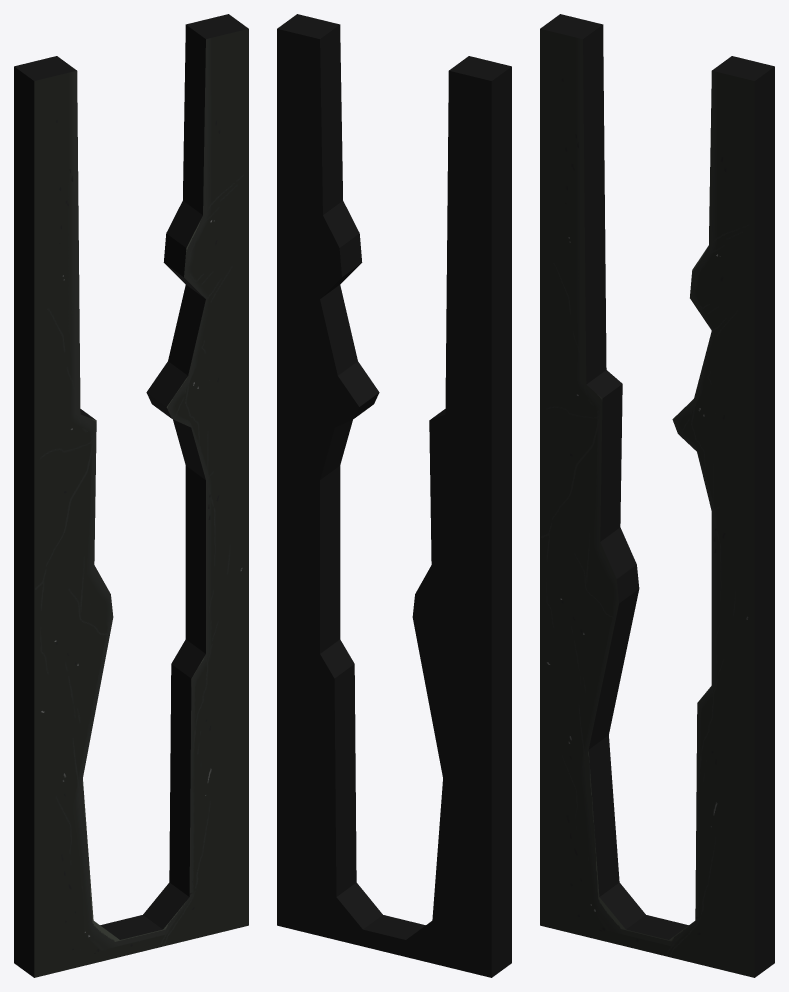
The picture shows the model from 3 angles, left to right: view 1: azimuth 30°, elevation 25°; view 2: azimuth 150°, elevation 25°; view 3: azimuth 330°, elevation 25°; orthographic projection.
Parts seen in each view (by area): view 1: Cube; view 2: Cube; view 3: Cube.
Part boxes in pixels (x1,y1,x2,y2): Cube: (14, 14, 248, 977); Cube: (277, 14, 511, 977); Cube: (540, 14, 774, 977).
Bounding box in the file's own units: 1229 × 4905 × 200.
